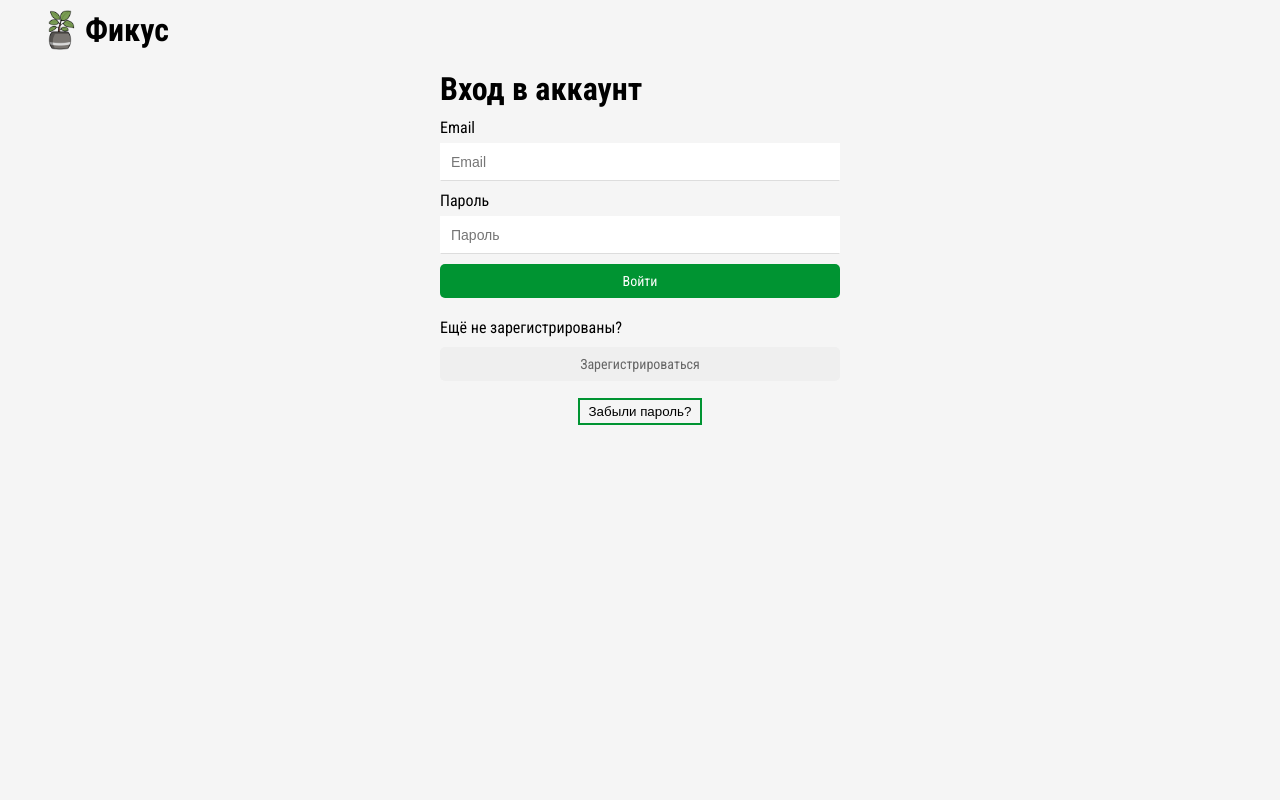
it: blocks duplicate reset requests and keeps the dialog open while sending
Click the button "Забыли пароль?" at {"x": 640, "y": 412}, box [582,403,697,420]
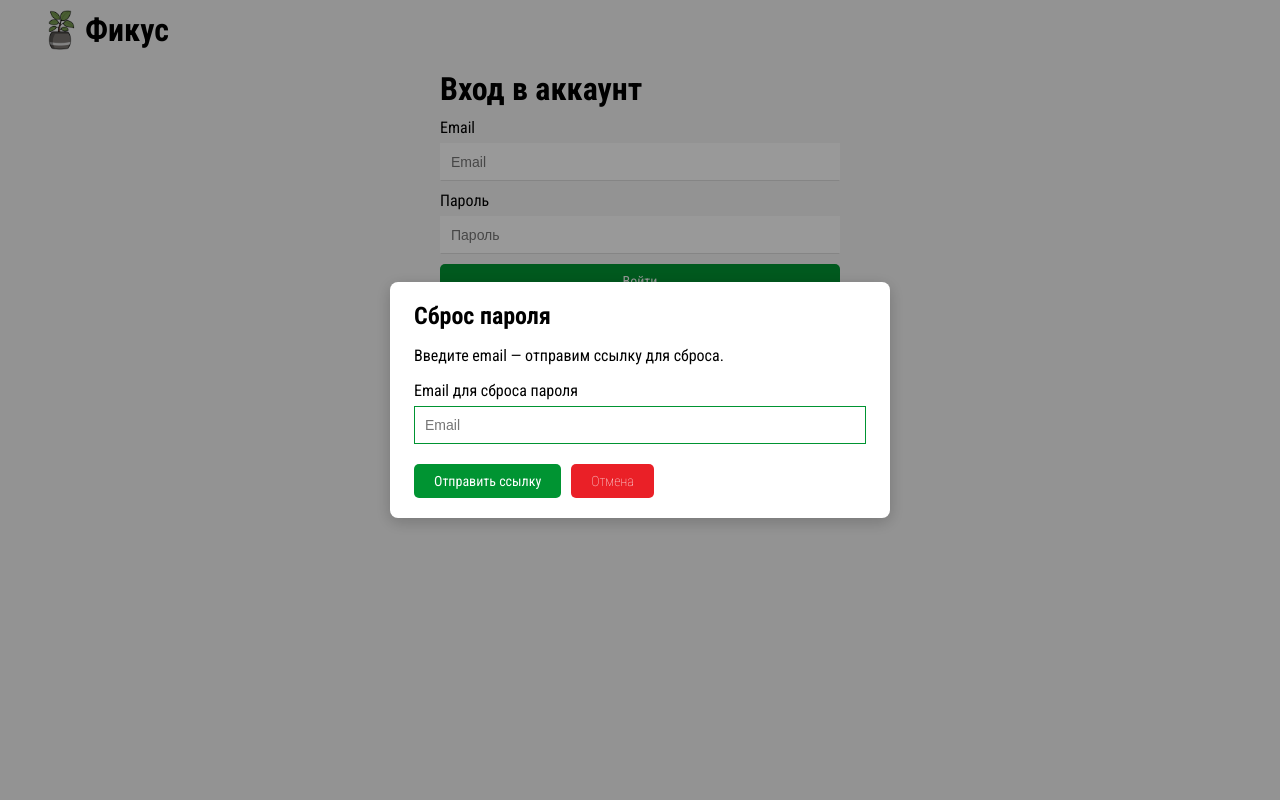
Type "plant@example.com" into the field labelled "Email для сброса пароля" at {"x": 640, "y": 425}, box [414,406,866,444]
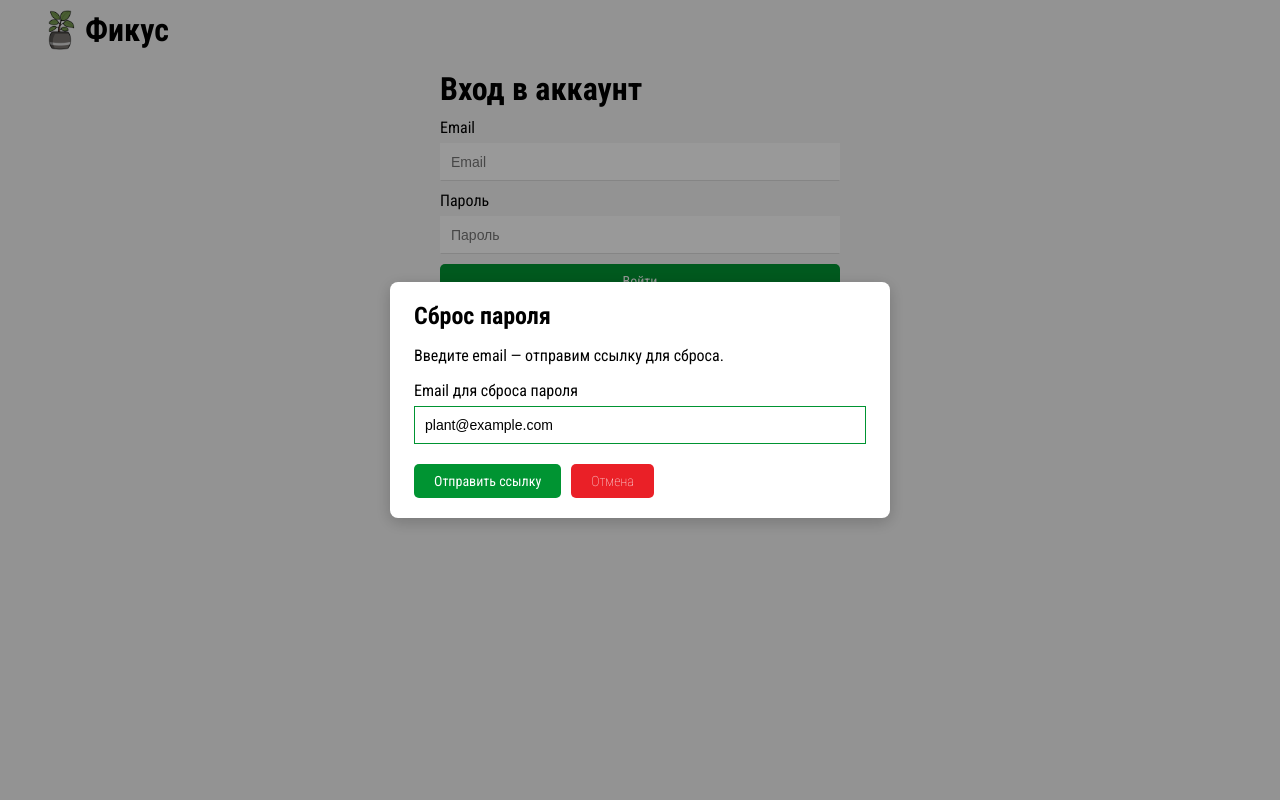
Submit the form "Сброс пароля", box [414,302,866,498]
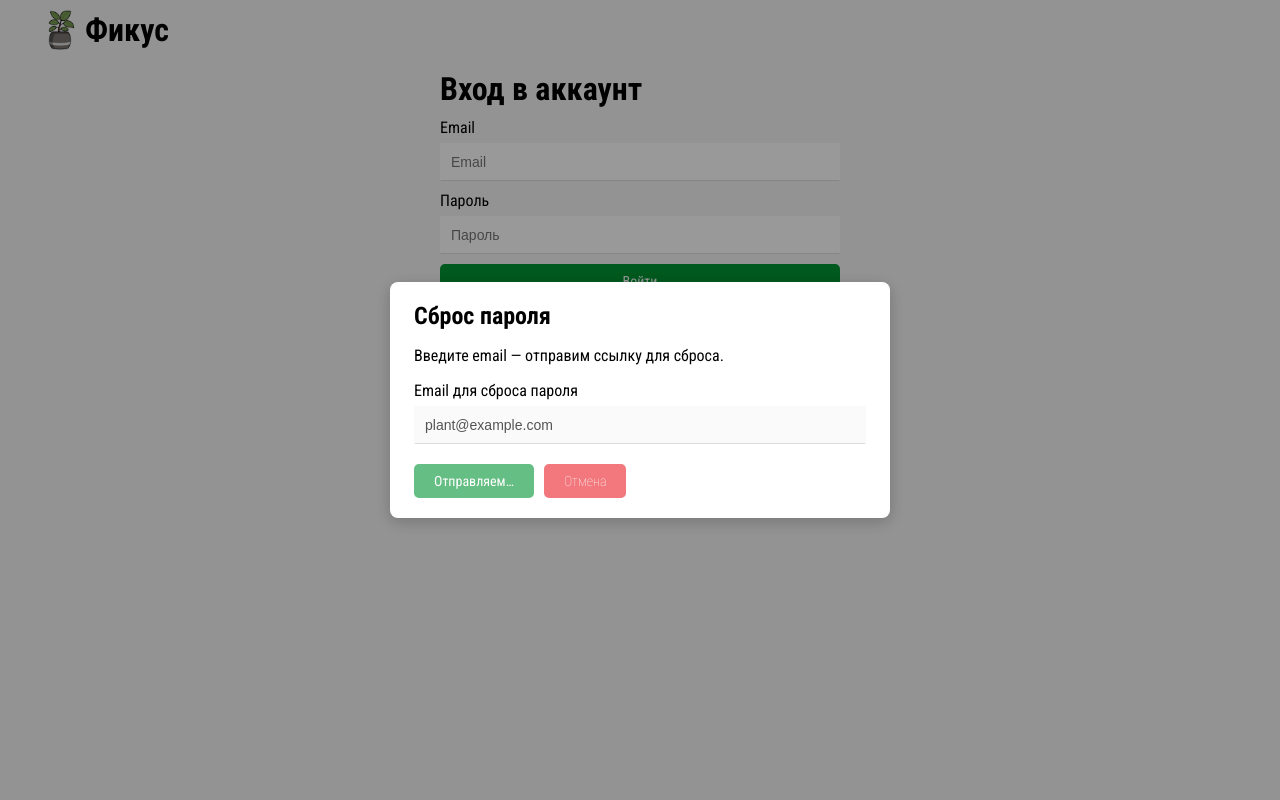
Now the button "Отправляем…" is disabled, box [414,464,534,498]
Now the button "Отмена" is disabled, box [544,464,626,498]
Now the field labelled "Email для сброса пароля" is disabled, box [414,406,866,444]
Submit the form "Сброс пароля", box [414,302,866,498]
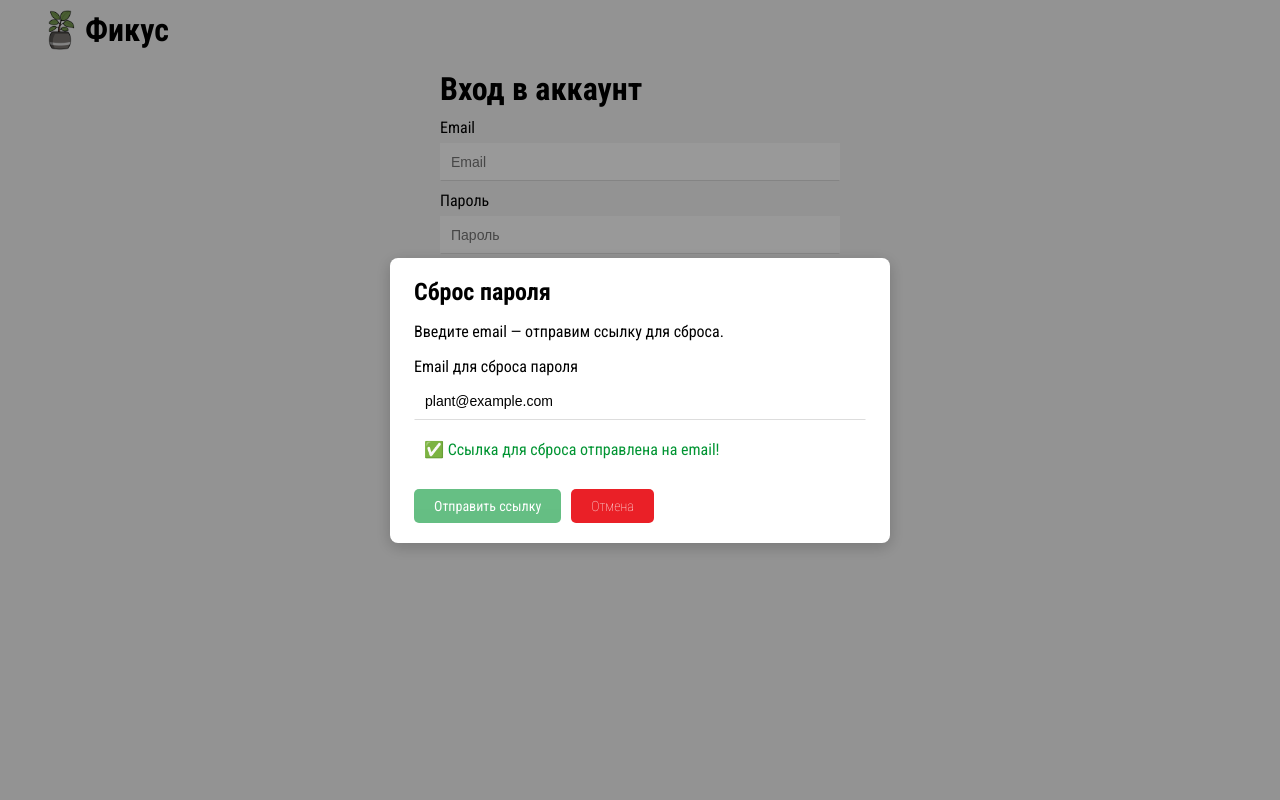
Now the dialog is shown, box [390,258,890,542]
Now the button "Отправить ссылку" is disabled, box [414,488,561,522]
Now the message shows "Ссылка для сброса отправлена", box [424,440,720,458]
